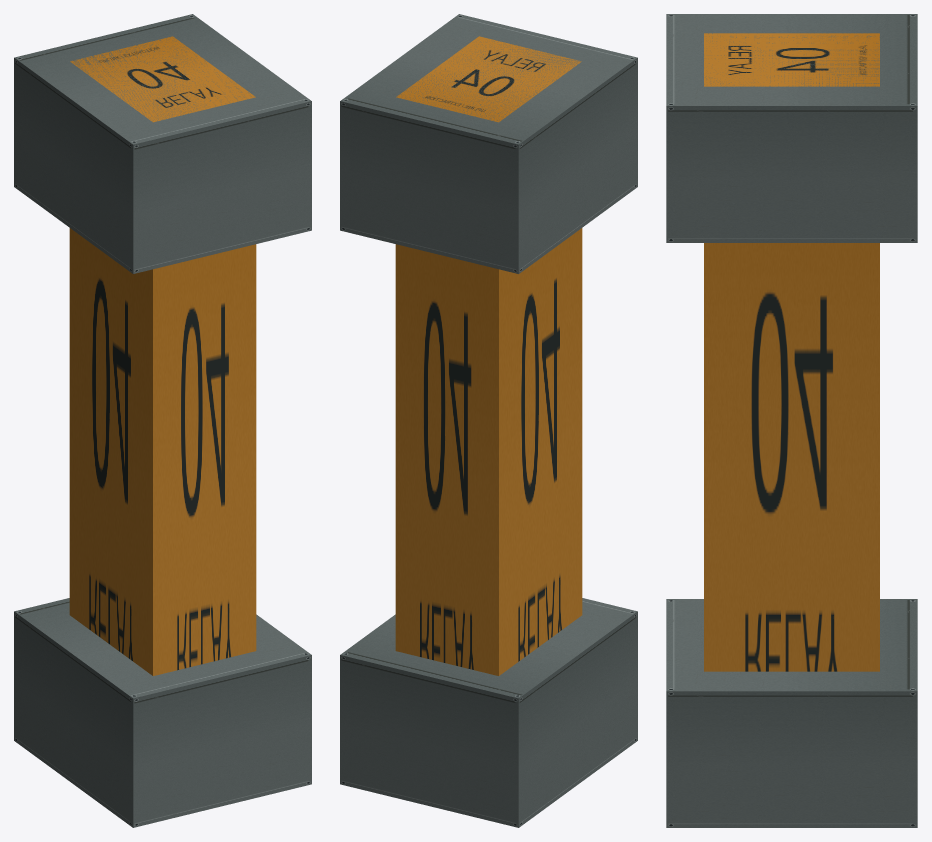
Rendered from column_broken_LOD3.obj.
3 views of the same model, side by side, from view 1: azimuth 30°, elevation 25°; view 2: azimuth 150°, elevation 25°; view 3: azimuth 270°, elevation 25° (orthographic). The views are drawn at different scales.
Visible parts, largest first — view 1: L02_column_broken_LOD3; view 2: L02_column_broken_LOD3; view 3: L02_column_broken_LOD3.
Part boxes in pixels (bbox=[...]): L02_column_broken_LOD3: bbox=[14, 14, 311, 827]; L02_column_broken_LOD3: bbox=[340, 14, 637, 827]; L02_column_broken_LOD3: bbox=[666, 14, 917, 827].
Size of the model in its own units: 0.52 by 1.9 by 0.6.
Materials: 1 (1 with a texture image).
